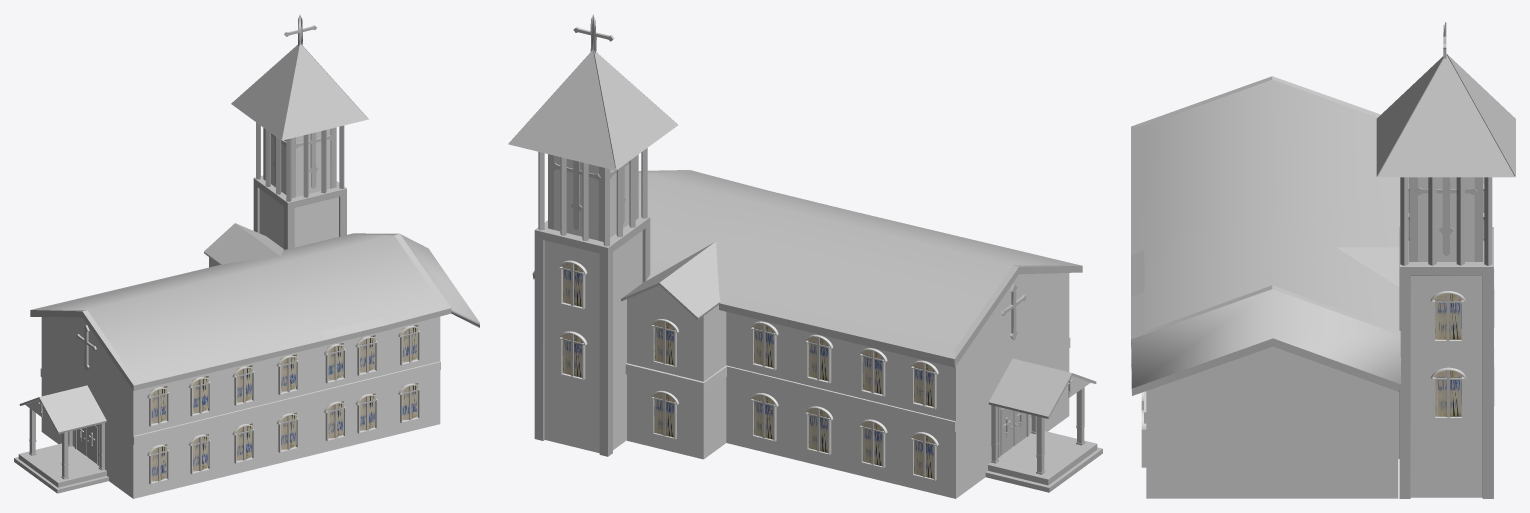
Rendered from CHURCH.fbx.
3 views of the same model, side by side, from view 1: azimuth 30°, elevation 25°; view 2: azimuth 150°, elevation 25°; view 3: azimuth 270°, elevation 25° (orthographic). The views are drawn at different scales.
Visible parts, largest first — view 1: Line031; view 2: Line031; view 3: Line031.
Boxes of the visible parts, <box> form: Line031: <box>14,14,479,498</box>; Line031: <box>508,14,1102,498</box>; Line031: <box>1131,22,1515,498</box>.
Bounding box in the file's own units: 29938 × 24653 × 18486.
